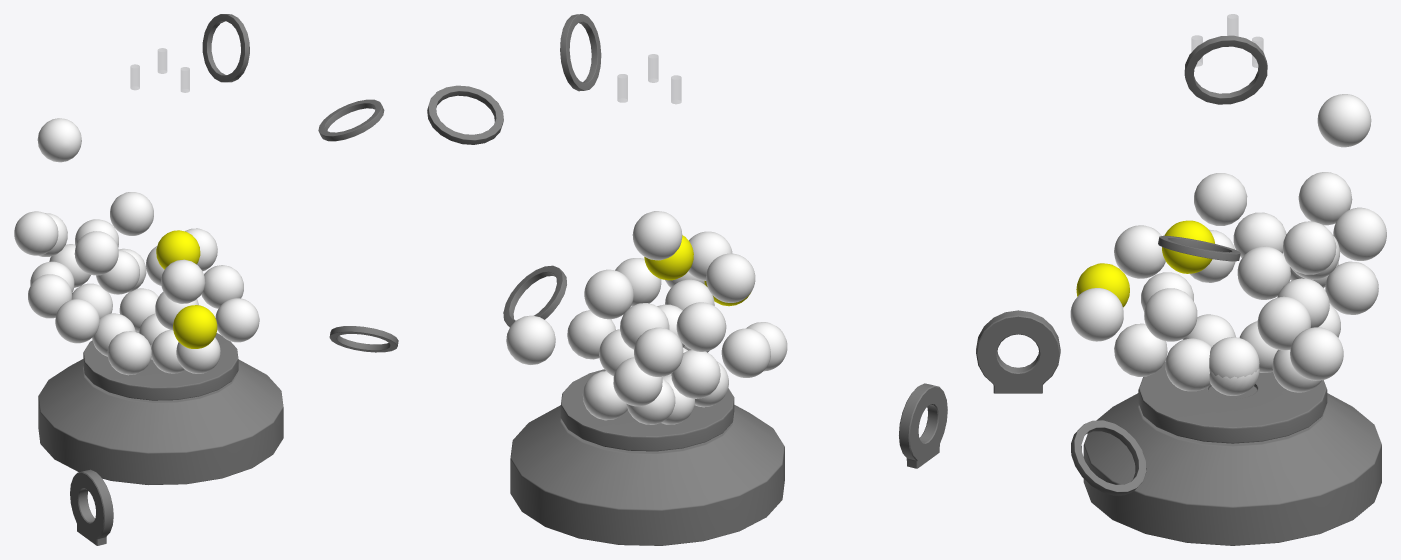
The model's file is lottery-machine1.obj.
3 renders of one model, left to right at view 1: azimuth 30°, elevation 25°; view 2: azimuth 150°, elevation 25°; view 3: azimuth 270°, elevation 25°, orthographic. The views are drawn at different scales.
Parts seen in each view (by area): view 1: Glass_base, Glass_Bass_mid, tubes_holder, instancer3_Ball_Number_9_id_23, instancer3_Ball_Number_4_id_30, instancer3_Ball_Number_7_id_36, instancer3_Ball_Number_9_id_31, instancer3_Ball_Number_2_id_25, instancer3_Ball_Number_5_id_46, instancer3_Ball_Number_9_id_29, instancer3_Ball_Number_8_id_12, instancer3_Ball_Number_2_id_34 (+18 smaller); view 2: Glass_base, Glass_Bass_mid, tubes_holder, instancer3_Ball_Number_4_id_30, instancer3_Ball_Number_8_id_2, instancer3_Ball_Number_9_id_31, instancer3_Ball_Number_5_id_46, instancer3_Ball_Number_4_id_14, instancer3_Ball_Number_2_id_34, instancer3_Ball_Number_3_id_7, tubes_holder2, instancer3_Ball_Number_2_id_3 (+14 smaller); view 3: Glass_base, Glass_Bass_mid, tubes_holder, tubes_holder3, instancer3_Ball_Number_3_id_7, instancer3_Ball_Number_2_id_34, instancer3_Ball_Number_9_id_38, instancer3_Ball_Number_2_id_25, instancer3_Ball_Number_5_id_46, tubes_holder1, instancer3_Ball_Number_3_id_39, instancer3_Ball_Number_9_id_31 (+19 smaller).
Part boxes in pixels (box(x1,y1,x2,y2)): Glass_base: box(38, 359, 283, 484); Glass_Bass_mid: box(83, 331, 238, 400); tubes_holder: box(70, 469, 113, 545); instancer3_Ball_Number_9_id_23: box(55, 299, 99, 343); instancer3_Ball_Number_4_id_30: box(14, 211, 58, 255); instancer3_Ball_Number_7_id_36: box(173, 305, 217, 348); instancer3_Ball_Number_9_id_31: box(74, 231, 118, 275); instancer3_Ball_Number_2_id_25: box(215, 298, 259, 342); instancer3_Ball_Number_5_id_46: box(110, 192, 153, 235); instancer3_Ball_Number_9_id_29: box(161, 259, 205, 303); instancer3_Ball_Number_8_id_12: box(107, 331, 151, 375); instancer3_Ball_Number_2_id_34: box(37, 118, 81, 162); Glass_base: box(510, 405, 784, 545); Glass_Bass_mid: box(560, 369, 734, 451); tubes_holder: box(899, 383, 947, 468); instancer3_Ball_Number_4_id_30: box(676, 302, 726, 351); instancer3_Ball_Number_8_id_2: box(721, 328, 770, 377); instancer3_Ball_Number_9_id_31: box(706, 253, 755, 302); instancer3_Ball_Number_5_id_46: box(584, 269, 633, 319); instancer3_Ball_Number_4_id_14: box(634, 327, 683, 376); instancer3_Ball_Number_2_id_34: box(632, 211, 682, 260); instancer3_Ball_Number_3_id_7: box(506, 315, 555, 364); tubes_holder2: box(427, 85, 503, 144); instancer3_Ball_Number_2_id_3: box(671, 350, 720, 398); Glass_base: box(1083, 393, 1381, 545); Glass_Bass_mid: box(1138, 362, 1327, 443); tubes_holder: box(976, 310, 1060, 393); tubes_holder3: box(1184, 35, 1267, 104); instancer3_Ball_Number_3_id_7: box(1290, 327, 1343, 380); instancer3_Ball_Number_2_id_34: box(1317, 94, 1371, 147); instancer3_Ball_Number_9_id_38: box(1144, 288, 1197, 341); instancer3_Ball_Number_2_id_25: box(1070, 288, 1123, 341); instancer3_Ball_Number_5_id_46: box(1282, 221, 1336, 274); tubes_holder1: box(1071, 420, 1146, 495); instancer3_Ball_Number_3_id_39: box(1325, 261, 1378, 314); instancer3_Ball_Number_9_id_31: box(1194, 173, 1247, 225).
Bounding box in the file's own units: 0.1914 × 0.2076 × 0.1529.
